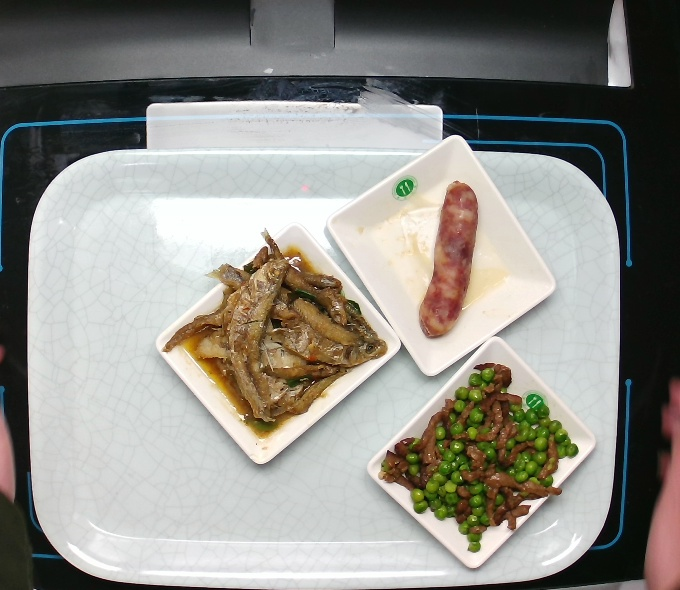wcq-CanDouNiuRou: (375, 359, 578, 555)
wcq-XiangChang: (406, 183, 490, 345)
wcq-XiaoJiYu: (190, 241, 384, 436)
